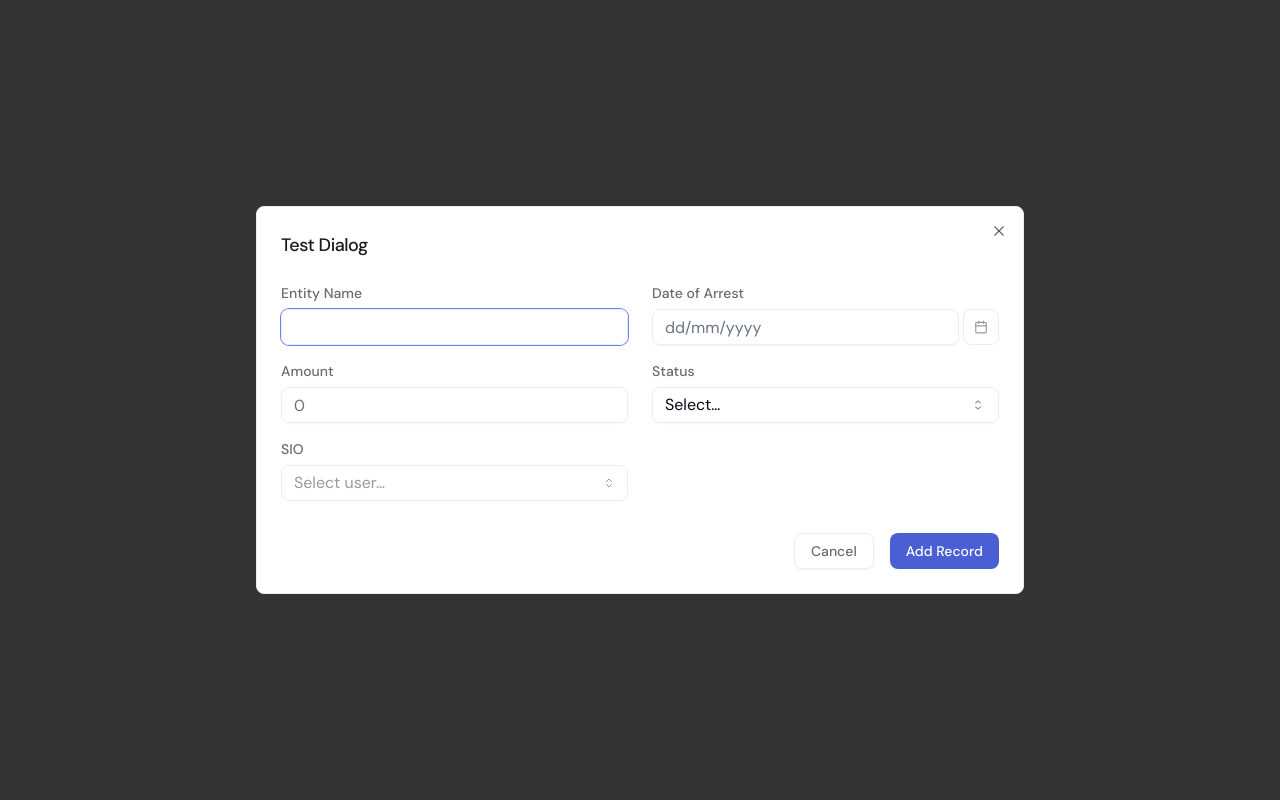
Test: RegisterRecordDialog — usercombobox › opens user dropdown and lists users
Click the button "Select user…": (340, 482) [281,465,628,501]
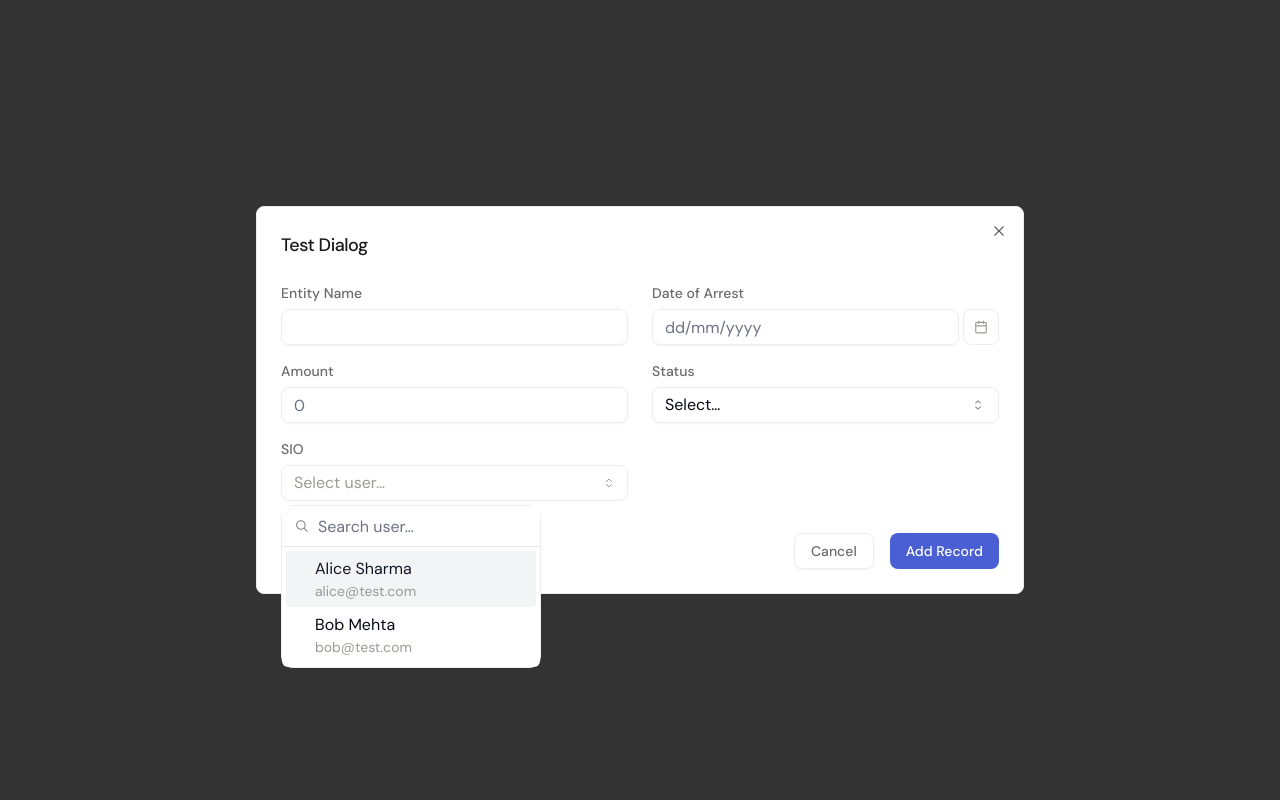
Check: the text "Bob Mehta" is shown, box [315,614,395,635]
Check: the text "bob@test.com" is shown, box [315,637,412,657]
